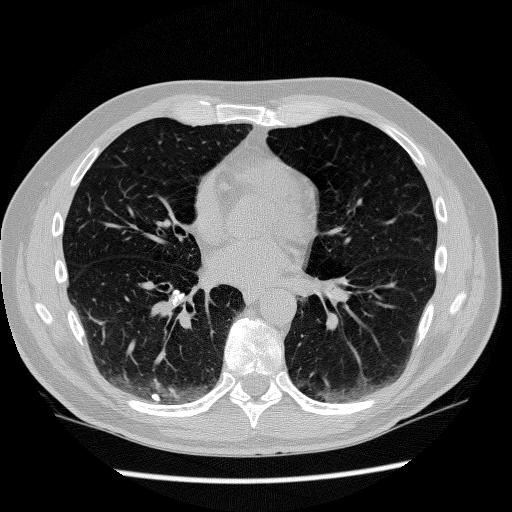nodule: (149, 390, 163, 404)
